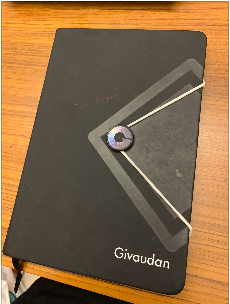object_name: (20, 17, 199, 292)
